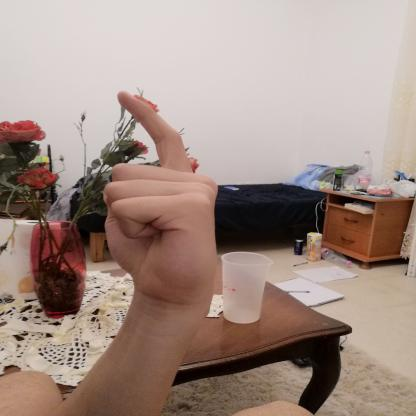RAA: (88, 84, 242, 306)
